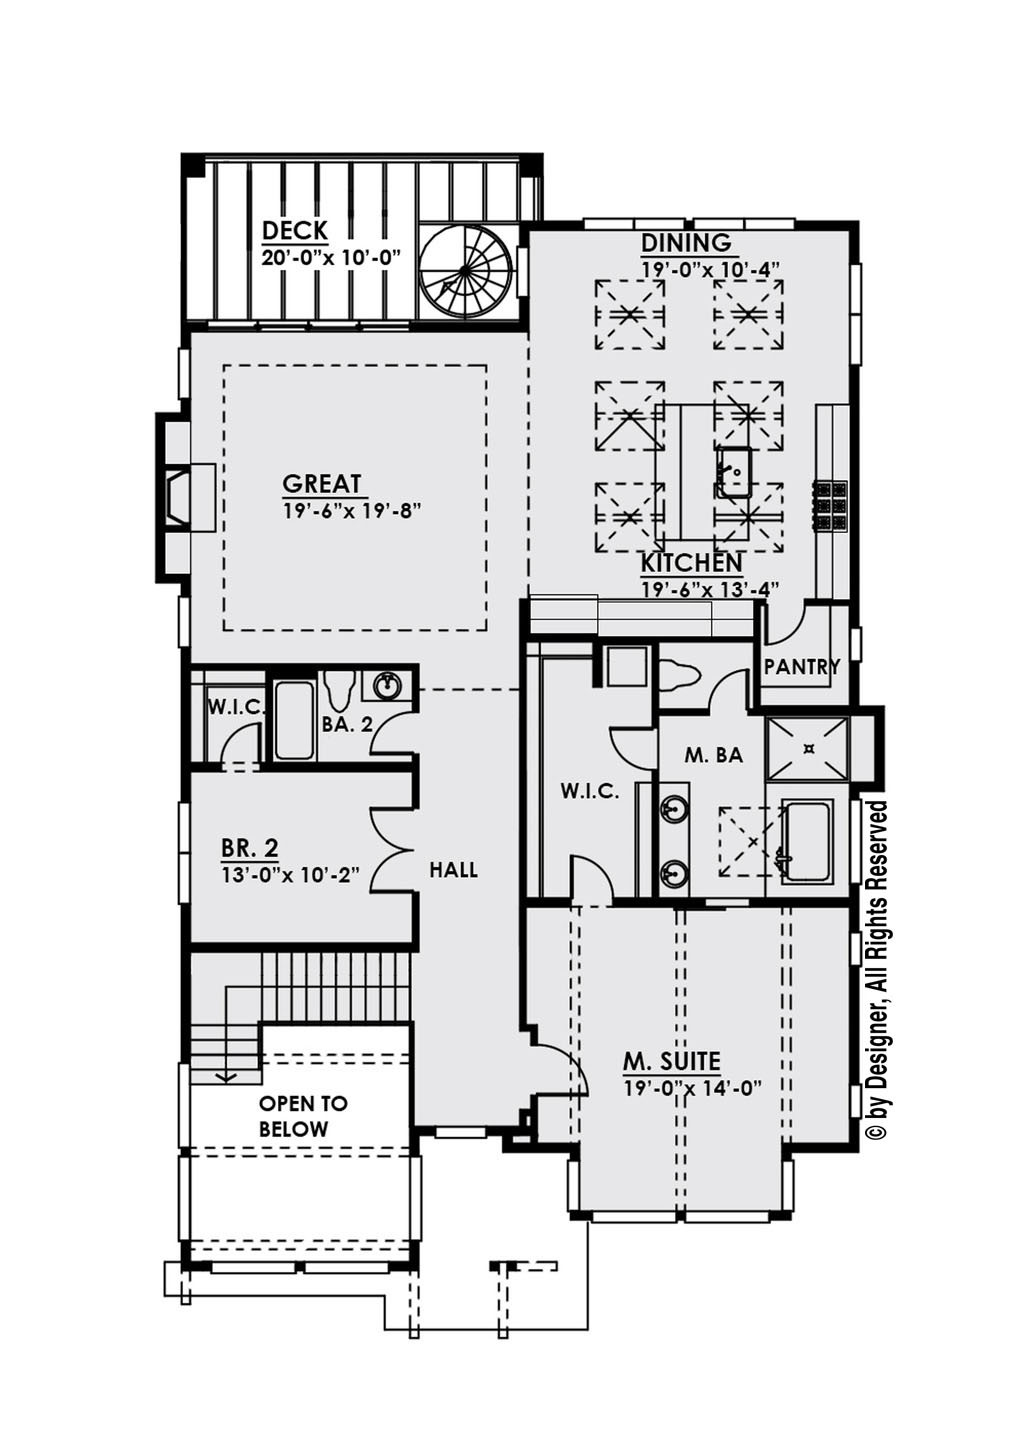door: (369, 802, 421, 897), (529, 1037, 600, 1105), (360, 711, 420, 756), (560, 854, 614, 903), (610, 725, 661, 776), (215, 722, 262, 769), (758, 597, 803, 645), (706, 666, 746, 713)
large_sink: (646, 654, 708, 694), (318, 665, 360, 720)
small_sink: (661, 779, 694, 898), (354, 668, 418, 708)
stairs: (180, 948, 412, 1088), (406, 222, 520, 326)
tub: (264, 674, 317, 763), (784, 799, 837, 882)
windows: (195, 1249, 395, 1282), (586, 1202, 777, 1234), (834, 259, 874, 363), (168, 792, 197, 914)
